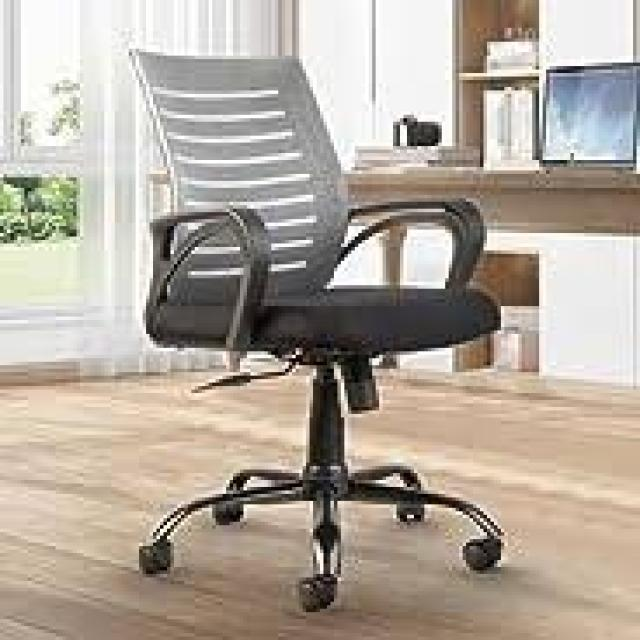chair: (73, 26, 575, 640)
